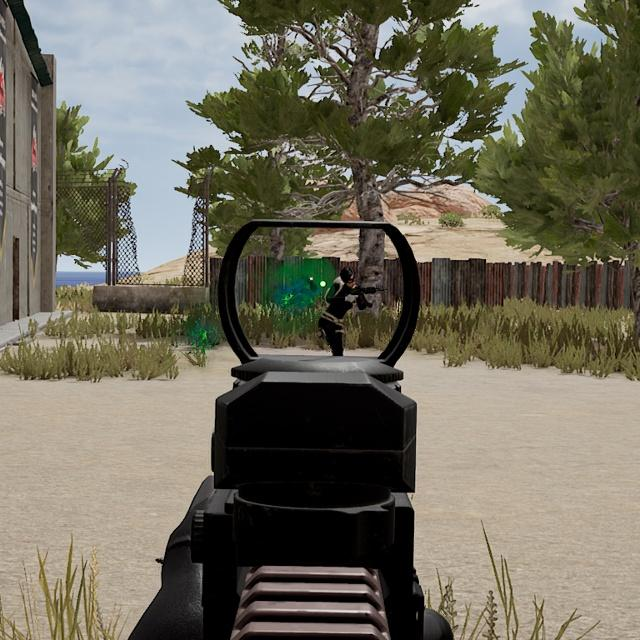head: (336, 264, 362, 289)
people: (316, 262, 370, 360)
